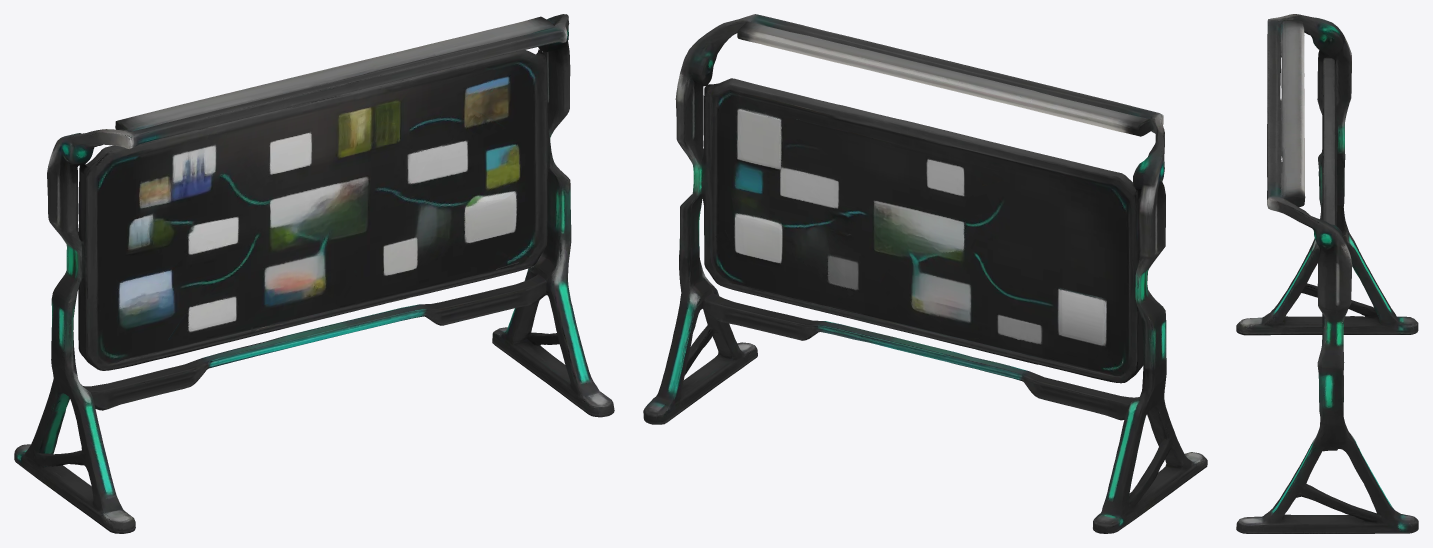
Rendered from m_trail.glb.
The picture shows the model from 3 angles, left to right: view 1: azimuth 30°, elevation 25°; view 2: azimuth 150°, elevation 25°; view 3: azimuth 270°, elevation 25°; orthographic projection. The views are drawn at different scales.
Parts seen in each view (by area): view 1: geometry_0; view 2: geometry_0; view 3: geometry_0.
Part boxes in pixels (x1,y1,x2,y2): geometry_0: (14,14,614,533); geometry_0: (643,14,1207,533); geometry_0: (1236,14,1418,533).
Bounding box in the file's own units: 0.9972 × 0.7105 × 0.365.
1 material, 1 textured.
